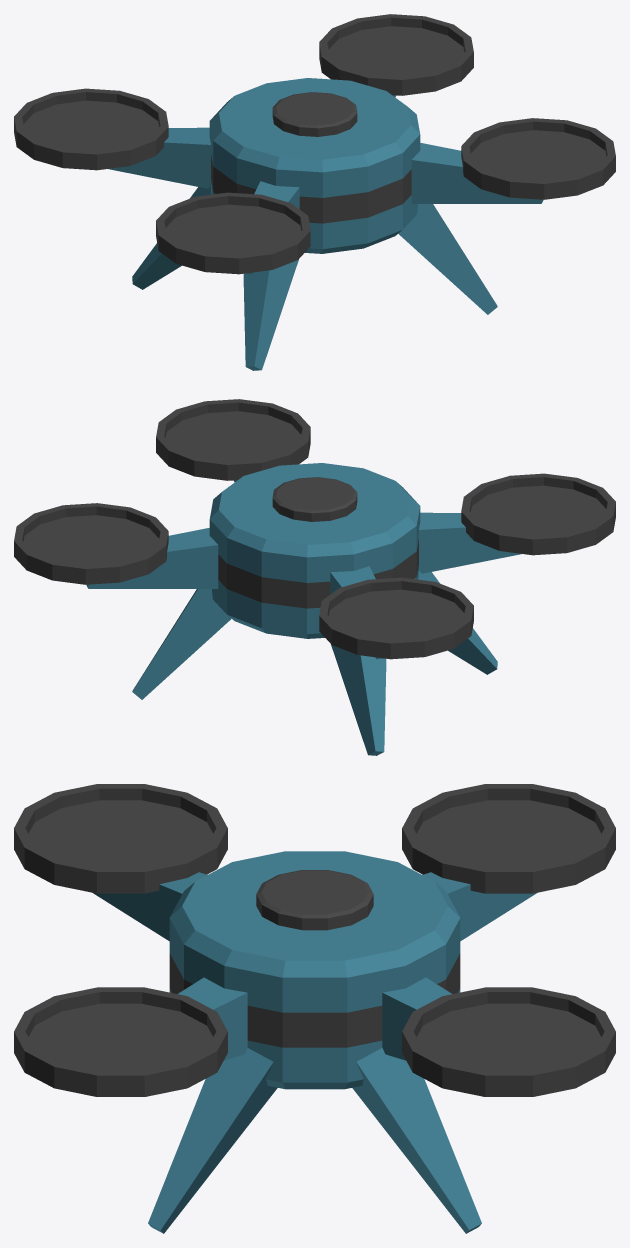
File: drone.glb
3 views of the same model, one above another, from view 1: azimuth 30°, elevation 25°; view 2: azimuth 150°, elevation 25°; view 3: azimuth 270°, elevation 25° (orthographic). The views are drawn at different scales.
Visible parts, largest first — view 1: Cylinder.001, Cylinder, Cube.001, Cube, Cylinder.002; view 2: Cylinder.001, Cylinder, Cube.001, Cube, Cylinder.002; view 3: Cylinder.001, Cylinder, Cube.001, Cube, Cylinder.002.
Boxes of the visible parts, left/top/right/bottom form: Cylinder.001: left=14, top=14, right=615, bottom=274; Cylinder: left=209, top=78, right=420, bottom=253; Cube.001: left=132, top=185, right=497, bottom=370; Cube: left=108, top=95, right=543, bottom=274; Cylinder.002: left=272, top=92, right=357, bottom=136; Cylinder.001: left=14, top=399, right=615, bottom=659; Cylinder: left=209, top=463, right=420, bottom=638; Cube.001: left=132, top=570, right=497, bottom=755; Cube: left=86, top=480, right=521, bottom=659; Cylinder.002: left=272, top=477, right=357, bottom=521; Cylinder.001: left=14, top=784, right=615, bottom=1096; Cylinder: left=169, top=851, right=460, bottom=1089; Cube.001: left=148, top=1048, right=481, bottom=1233; Cube: left=92, top=872, right=537, bottom=1060; Cylinder.002: left=256, top=870, right=373, bottom=930.
Size of the model in its own units: 2.67 by 1.13 by 2.33.
